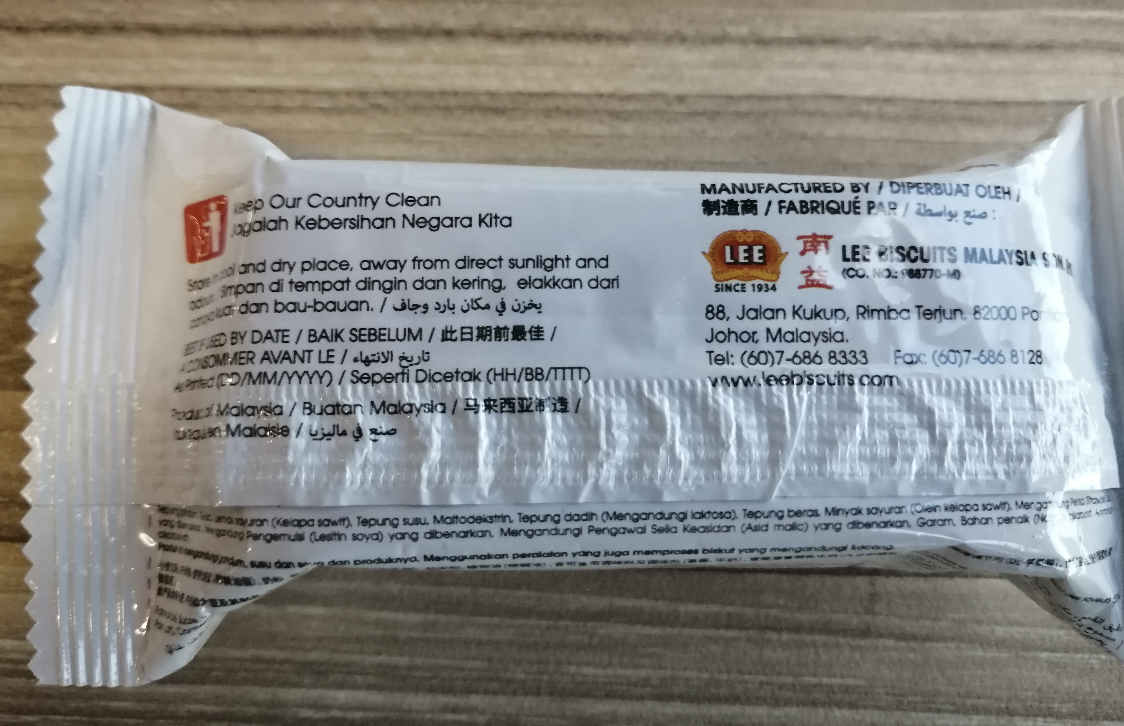Wafers: (121, 179, 1108, 534)
